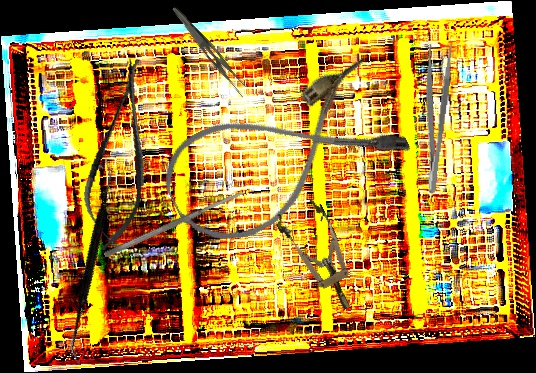Cannula: (150, 51, 415, 261)
Dressing Forceps: (163, 5, 254, 100), (412, 42, 455, 195)
Micro Scissor: (75, 53, 166, 257)
Spatula Surgical: (10, 156, 176, 366), (102, 189, 246, 259)
Speculum: (272, 195, 369, 320)
